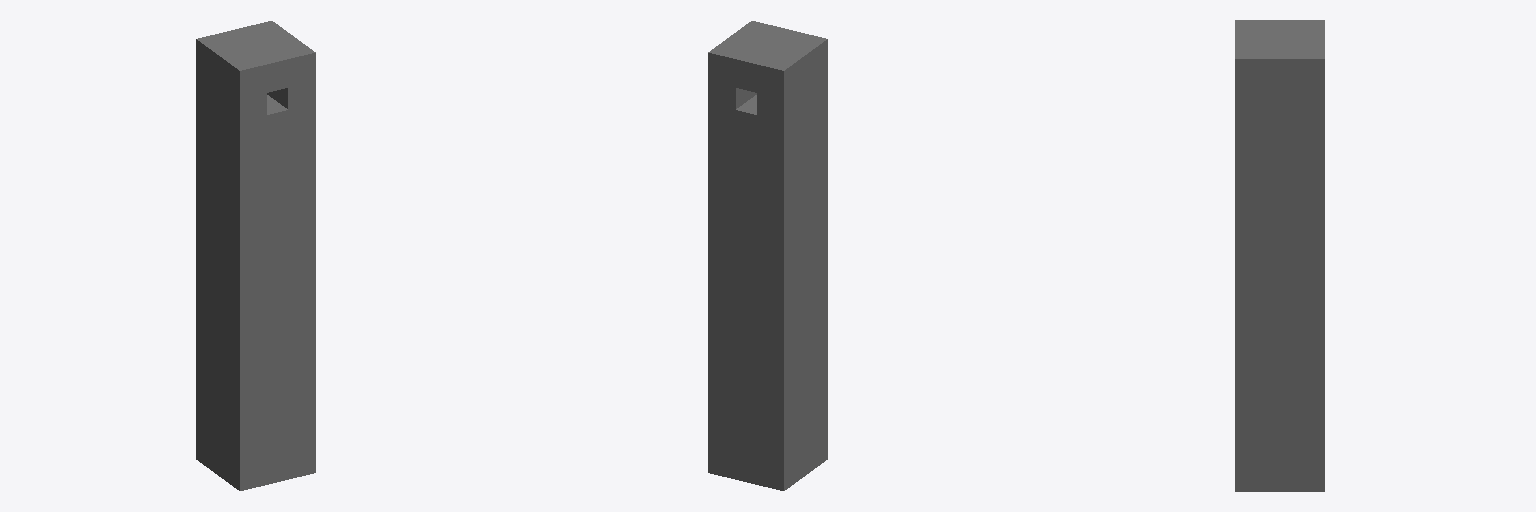
robot.urdf — primitive_adapter_station:
<robot name="primitive_adapter_station">
  
  
  
  
  
  
  
  
  
  
  <link name="world"><inertial><mass value="0.0" /><origin rpy="0 0 0" xyz="0 0 0" /><inertia ixx="0.0" ixy="0.0" ixz="0.0" iyy="0.0" iyz="0.0" izz="0.0" /></inertial></link>
  <joint name="world_joint" type="fixed">
    <parent link="world" />
    <child link="low_body_link" />
    <origin rpy="0.0 0.0 0.0" xyz="0.0 0.0 0.5825" />
  </joint>
  <link name="low_body_link">
    <inertial>
      <mass value="50.0" />
      <origin rpy="0 0 0" xyz="0 0 0" />
      <inertia ixx="5.9155184671250005" ixy="0.0" ixz="0.0" iyy="5.9155184671250005" iyz="0.0" izz="0.520833125" />
    </inertial>
    <visual>
      <material name="grey">
        <color rgba="0.5 0.5 0.5 1" />
      </material>
      <orign rpy="0.0 0.0 0.0" xyz="0.0 0.0 0.0" />
      <geometry>
        <box size="0.25 0.25 1.165" />
      </geometry>
    </visual>
    <collision>
      <orign rpy="0.0 0.0 0.0" xyz="0.0 0.0 0.0" />
      <geometry>
        <box size="0.25 0.25 1.165" />
      </geometry>
    </collision>
  </link>
  <joint name="left_panel_joint" type="fixed">
    <parent link="low_body_link" />
    <child link="left_panel_link" />
    <origin rpy="0.0 0.0 0.0" xyz="-0.08 0.0 0.6174999999999999" />
  </joint>
  <link name="left_panel_link">
    <inertial>
      <mass value="5.0" />
      <origin rpy="0 0 0" xyz="0 0 0" />
      <inertia ixx="0.0280833221" ixy="0.0" ixz="0.0" iyy="0.0054166645000000005" iyz="0.0" izz="0.0294166549" />
    </inertial>
    <visual>
      <material name="grey">
        <color rgba="0.5 0.5 0.5 1" />
      </material>
      <orign rpy="0.0 0.0 0.0" xyz="0.0 0.0 0.0" />
      <geometry>
        <box size="0.09 0.25 0.07" />
      </geometry>
    </visual>
    <collision>
      <orign rpy="0.0 0.0 0.0" xyz="0.0 0.0 0.0" />
      <geometry>
        <box size="0.09 0.25 0.07" />
      </geometry>
    </collision>
  </link>
  <joint name="right_panel_joint" type="fixed">
    <parent link="low_body_link" />
    <child link="right_panel_link" />
    <origin rpy="0.0 0.0 0.0" xyz="0.08 0.0 0.6174999999999999" />
  </joint>
  <link name="right_panel_link">
    <inertial>
      <mass value="5.0" />
      <origin rpy="0 0 0" xyz="0 0 0" />
      <inertia ixx="0.0280833221" ixy="0.0" ixz="0.0" iyy="0.0054166645000000005" iyz="0.0" izz="0.0294166549" />
    </inertial>
    <visual>
      <material name="grey">
        <color rgba="0.5 0.5 0.5 1" />
      </material>
      <orign rpy="0.0 0.0 0.0" xyz="0.0 0.0 0.0" />
      <geometry>
        <box size="0.09 0.25 0.07" />
      </geometry>
    </visual>
    <collision>
      <orign rpy="0.0 0.0 0.0" xyz="0.0 0.0 0.0" />
      <geometry>
        <box size="0.09 0.25 0.07" />
      </geometry>
    </collision>
  </link>
  <joint name="top_panel_joint" type="fixed">
    <parent link="low_body_link" />
    <child link="top_panel_link" />
    <origin rpy="0.0 0.0 0.0" xyz="0.0 0.0 0.6975" />
  </joint>
  <link name="top_panel_link">
    <inertial>
      <mass value="10.0" />
      <origin rpy="0 0 0" xyz="0 0 0" />
      <inertia ixx="0.0588333098" ixy="0.0" ixz="0.0" iyy="0.0588333098" iyz="0.0" izz="0.104166625" />
    </inertial>
    <visual>
      <material name="grey">
        <color rgba="0.5 0.5 0.5 1" />
      </material>
      <orign rpy="0.0 0.0 0.0" xyz="0.0 0.0 0.0" />
      <geometry>
        <box size="0.25 0.25 0.09" />
      </geometry>
    </visual>
    <collision>
      <orign rpy="0.0 0.0 0.0" xyz="0.0 0.0 0.0" />
      <geometry>
        <box size="0.25 0.25 0.09" />
      </geometry>
    </collision>
  </link>
  <joint name="target_ref_frame_joint" type="fixed">
    <parent link="world" />
    <child link="target_reference_frame" />
    <axis xyz="0 0 0" />
    <origin rpy="1.5707963267948966 0 3.141592653589793" xyz="0 -0.125 1.2" />
  </joint>
  <link name="target_reference_frame">
    <inertial>
      <mass value="0.0" />
      <origin rpy="0 0 0" xyz="0 0 0" />
      <inertia ixx="0.0" ixy="0.0" ixz="0.0" iyy="0.0" iyz="0.0" izz="0.0" />
    </inertial>
  </link>
  <joint name="virt_tgt_frame_x_joint" type="fixed">
    <parent link="target_reference_frame" />
    <child link="virt_tgt_frame_x" />
    <axis xyz="0 0 0" />
    <origin rpy="0 0 0" xyz="1 0 0" />
  </joint>
  <link name="virt_tgt_frame_x">
    <inertial>
      <mass value="0.0" />
      <origin rpy="0 0 0" xyz="0 0 0" />
      <inertia ixx="0.0" ixy="0.0" ixz="0.0" iyy="0.0" iyz="0.0" izz="0.0" />
    </inertial>
  </link>
  <joint name="virt_tgt_frame_y_joint" type="fixed">
    <parent link="target_reference_frame" />
    <child link="virt_tgt_frame_y" />
    <axis xyz="0 0 0" />
    <origin rpy="0 0 0" xyz="0 1 0" />
  </joint>
  <link name="virt_tgt_frame_y">
    <inertial>
      <mass value="0.0" />
      <origin rpy="0 0 0" xyz="0 0 0" />
      <inertia ixx="0.0" ixy="0.0" ixz="0.0" iyy="0.0" iyz="0.0" izz="0.0" />
    </inertial>
  </link>
  <joint name="virt_tgt_frame_z_joint" type="fixed">
    <parent link="target_reference_frame" />
    <child link="virt_tgt_frame_z" />
    <axis xyz="0 0 0" />
    <origin rpy="0 0 0" xyz="0 0 1" />
  </joint>
  <link name="virt_tgt_frame_z">
    <inertial>
      <mass value="0.0" />
      <origin rpy="0 0 0" xyz="0 0 0" />
      <inertia ixx="0.0" ixy="0.0" ixz="0.0" iyy="0.0" iyz="0.0" izz="0.0" />
    </inertial>
  </link>
  
  <gazebo reference="low_body_link">
    <material>Gazebo/Grey</material>
  </gazebo>
  <gazebo reference="left_panel_link">
    <material>Gazebo/Grey</material>
  </gazebo>
  <gazebo reference="right_panel_link">
    <material>Gazebo/Grey</material>
  </gazebo>
  <gazebo reference="top_panel_link">
    <material>Gazebo/Grey</material>
  </gazebo>
</robot>

--- Facts derived from the render (not from the file) ---
Views: 3 orthographic renders of the robot side by side, from view 1: azimuth 30°, elevation 25°; view 2: azimuth 150°, elevation 25°; view 3: azimuth 270°, elevation 25°.
Model primitive_adapter_station with 9 links and 8 joints (8 fixed), rooted at world, posed every joint at zero.
Visible links, largest first — view 1: low_body_link, top_panel_link, left_panel_link, right_panel_link; view 2: low_body_link, top_panel_link, left_panel_link, right_panel_link; view 3: low_body_link, top_panel_link, right_panel_link.
Boxes of the visible links, x1,y1,x2,y2 form: low_body_link: (196, 90, 315, 490); top_panel_link: (196, 21, 315, 98); left_panel_link: (196, 68, 266, 121); right_panel_link: (267, 81, 315, 109); low_body_link: (708, 90, 827, 490); top_panel_link: (708, 21, 827, 98); left_panel_link: (757, 68, 827, 121); right_panel_link: (708, 81, 756, 109); low_body_link: (1235, 111, 1324, 491); top_panel_link: (1235, 20, 1324, 87); right_panel_link: (1235, 88, 1324, 110).
Size in the robot's own frame: 0.25 by 0.25 by 1.32 metres.
Geometry: primitives only (box / cylinder / sphere), no mesh files.